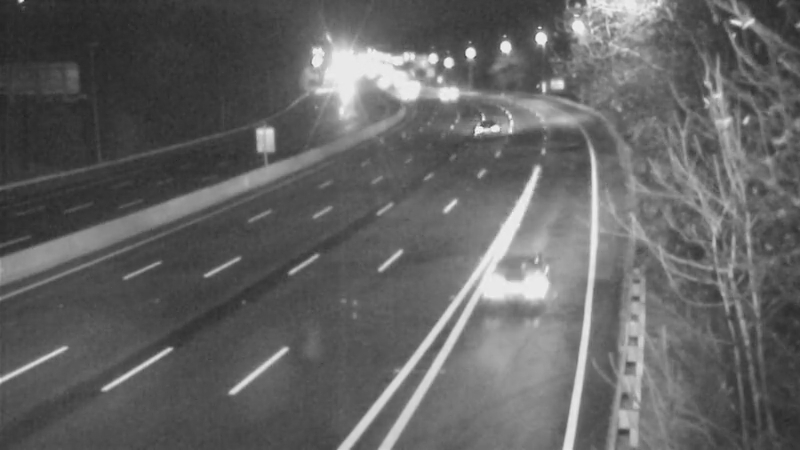vehicle: (481, 241, 561, 321), (420, 69, 470, 119), (454, 95, 504, 145)
